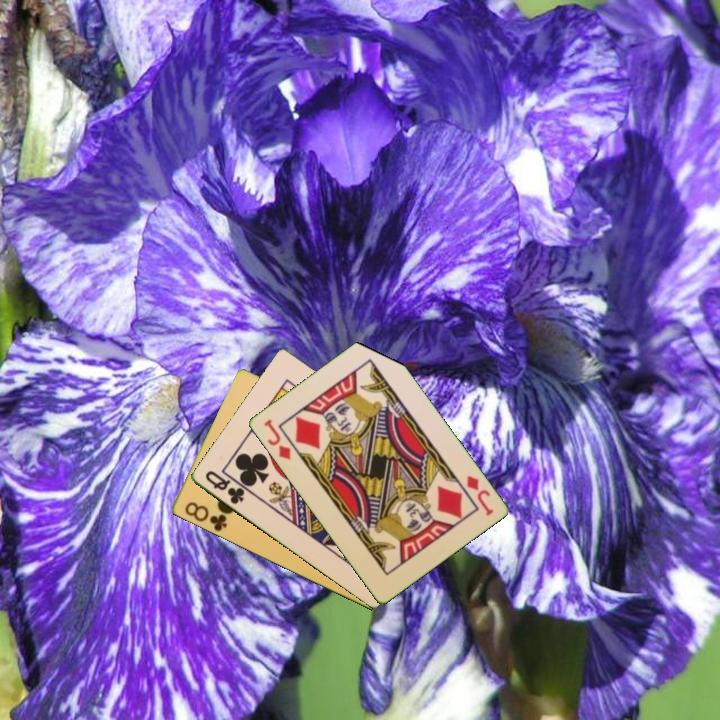8c: (181, 498, 230, 534)
Jd: (462, 472, 496, 519), (260, 415, 293, 463)
Qc: (201, 467, 247, 507)
